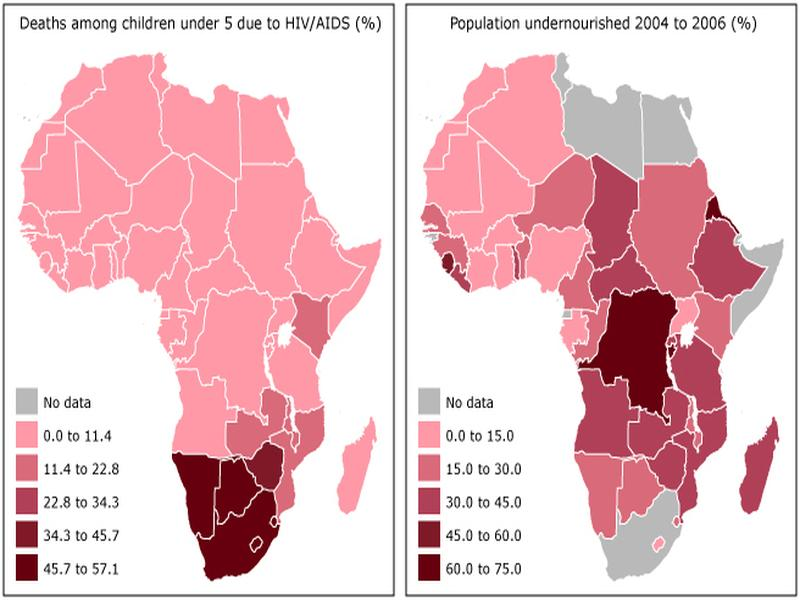legend: (415, 385, 525, 582), (14, 385, 121, 585)
